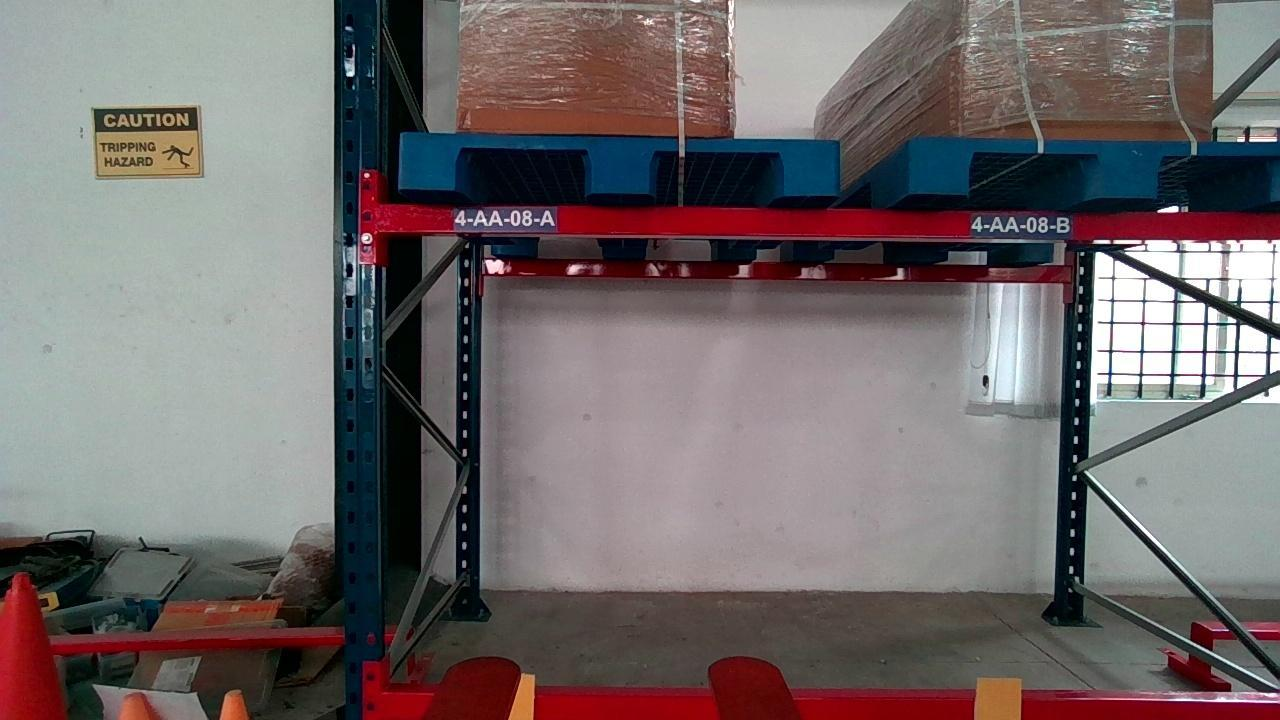h_rack: (377, 207, 1279, 236), (385, 692, 1280, 719)
small_pallet: (399, 135, 839, 193), (914, 138, 1279, 200)
